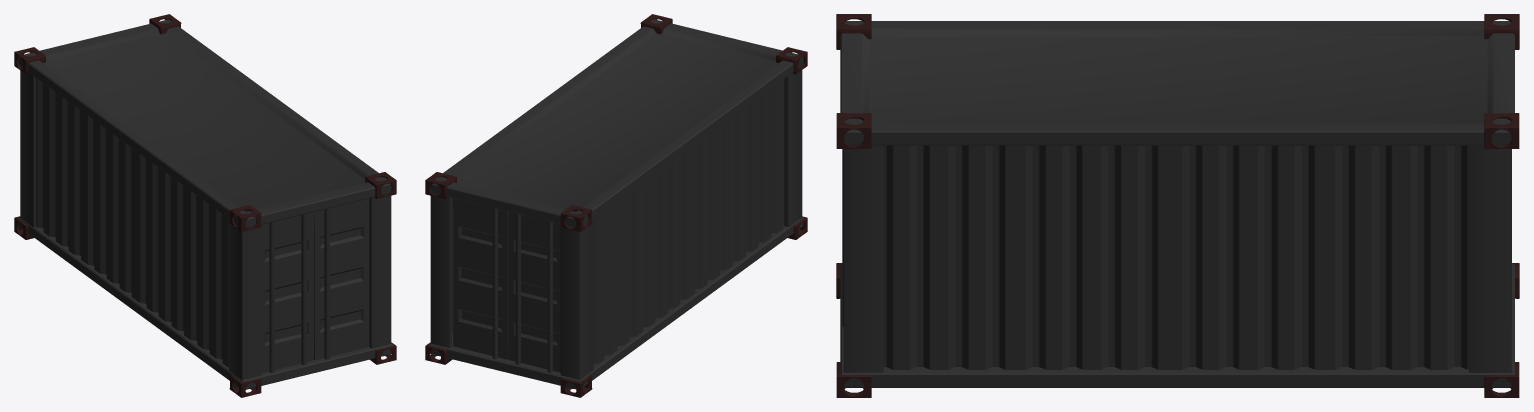
Rendered from Container_v1.FBX.
3 views of the same model, side by side, from view 1: azimuth 30°, elevation 25°; view 2: azimuth 150°, elevation 25°; view 3: azimuth 270°, elevation 25° (orthographic). The views are drawn at different scales.
Visible parts, largest first — view 1: Line13220, Box004; view 2: Line13220, Box004; view 3: Line13220, Box004.
Part boxes in pixels (box(x1,y1,x2,y2)): Line13220: box(18, 19, 392, 389); Box004: box(14, 14, 396, 397); Line13220: box(429, 19, 803, 389); Box004: box(425, 14, 807, 397); Line13220: box(840, 21, 1514, 387); Box004: box(836, 14, 1519, 397).
Size of the model in its own units: 193 by 213 by 488.
